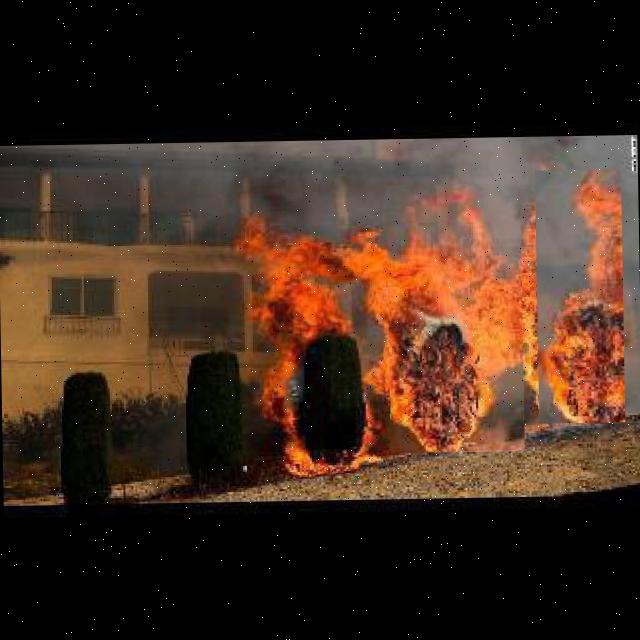fire: (386, 182, 524, 452), (249, 211, 386, 475), (534, 169, 624, 423)
